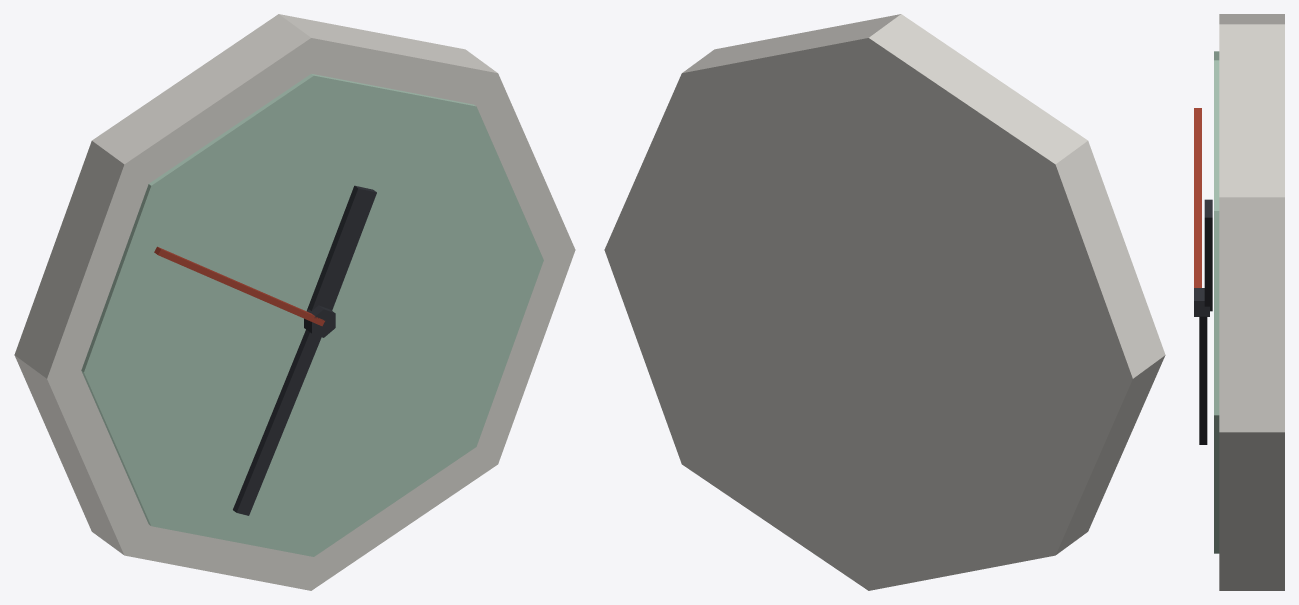
The model's file is wall-clock-40.glb.
3 views of the same model, side by side, from view 1: azimuth 30°, elevation 25°; view 2: azimuth 150°, elevation 25°; view 3: azimuth 270°, elevation 25° (orthographic).
Parts seen in each view (by area): view 1: wall_clock_40; view 2: wall_clock_40; view 3: wall_clock_40.
Part boxes in pixels (box(x1,y1,x2,y2)): wall_clock_40: box(14, 14, 575, 590); wall_clock_40: box(604, 14, 1165, 590); wall_clock_40: box(1194, 14, 1284, 590).
Size of the model in its own units: 0.4618 by 0.4618 by 0.0684.
